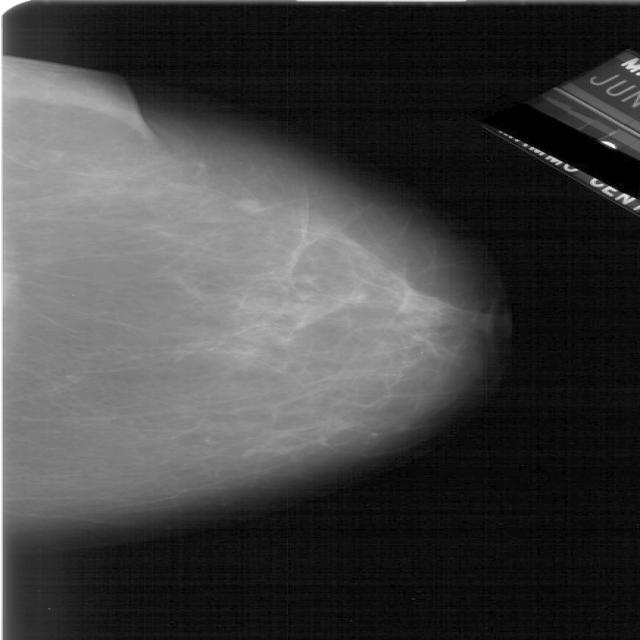tumour: (231, 197, 268, 213)
